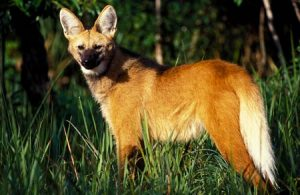LoboGuara: (54, 2, 279, 186)
